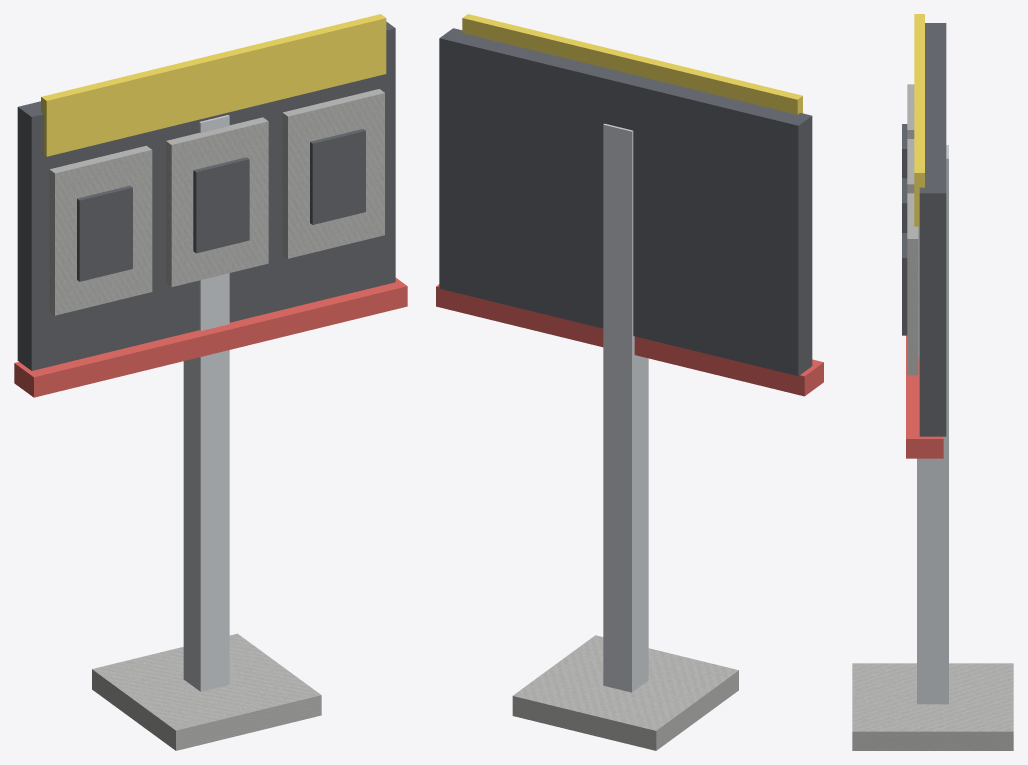
File: go-kart-track-and-pit-lane-lap-counter-board-fb98a5eb__34368.glb
The picture shows the model from 3 angles, left to right: view 1: azimuth 30°, elevation 25°; view 2: azimuth 150°, elevation 25°; view 3: azimuth 270°, elevation 25°; orthographic projection. The views are drawn at different scales.
Parts seen in each view (by area): view 1: lap-counter-board-charcoal, lap-counter-board-concrete, lap-counter-board-canary, lap-counter-board-steel, lap-counter-board-red; view 2: lap-counter-board-charcoal, lap-counter-board-steel, lap-counter-board-concrete, lap-counter-board-canary, lap-counter-board-red; view 3: lap-counter-board-concrete, lap-counter-board-charcoal, lap-counter-board-steel, lap-counter-board-canary, lap-counter-board-red.
Boxes of the visible parts, x1,y1,x2,y2 form: lap-counter-board-charcoal: [17, 21, 395, 370]; lap-counter-board-concrete: [49, 89, 384, 750]; lap-counter-board-canary: [41, 14, 386, 156]; lap-counter-board-steel: [183, 115, 229, 691]; lap-counter-board-red: [14, 278, 407, 397]; lap-counter-board-charcoal: [439, 28, 812, 376]; lap-counter-board-steel: [603, 123, 648, 692]; lap-counter-board-concrete: [512, 635, 738, 750]; lap-counter-board-canary: [462, 14, 802, 114]; lap-counter-board-red: [436, 284, 823, 396]; lap-counter-board-concrete: [852, 84, 1013, 750]; lap-counter-board-charcoal: [902, 23, 946, 436]; lap-counter-board-steel: [917, 145, 948, 704]; lap-counter-board-canary: [914, 14, 924, 226]; lap-counter-board-red: [906, 335, 943, 458].
Size of the model in its own units: 1.54 by 2.56 by 0.6001.
5 materials, 1 textured.
